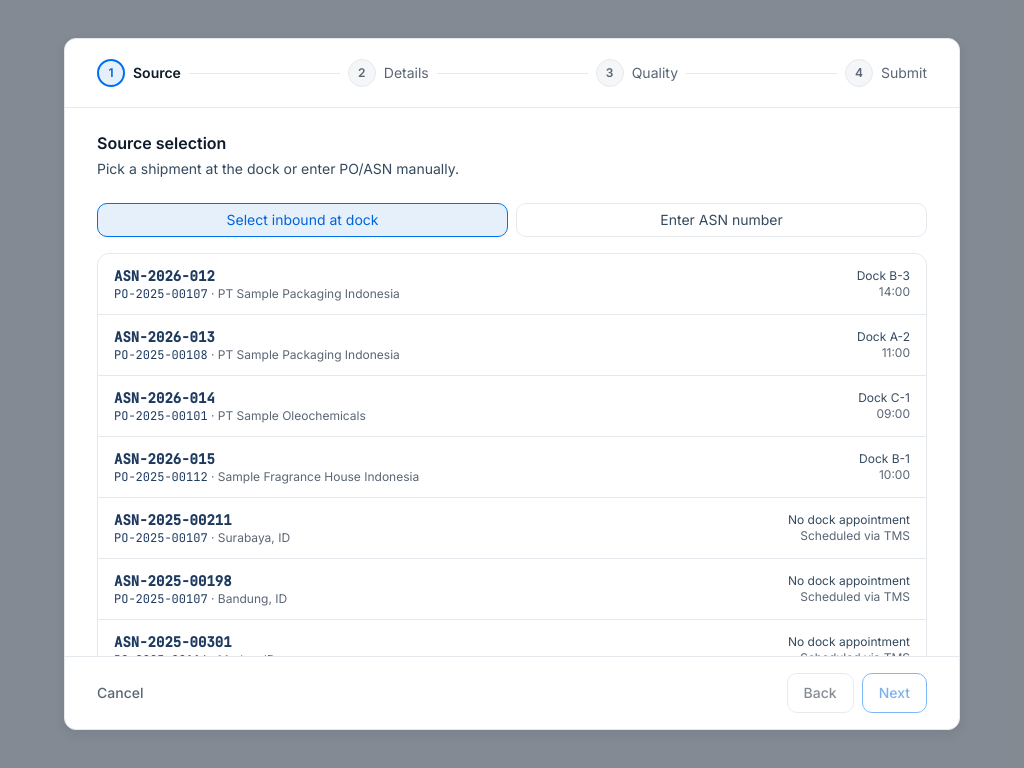
Test: GRInspectionWizard — the BPOM gate reads the master and fails closed › ⚠️ an APPLICABLE line asks for the check — and the wizard STOPS until it is answered
The image size is (1024, 768).
What coordinates should you click on to do the following:
click the text "ASN-2026-015"
I would click on:
 (164, 459)
Its box is [114,450,215,468].
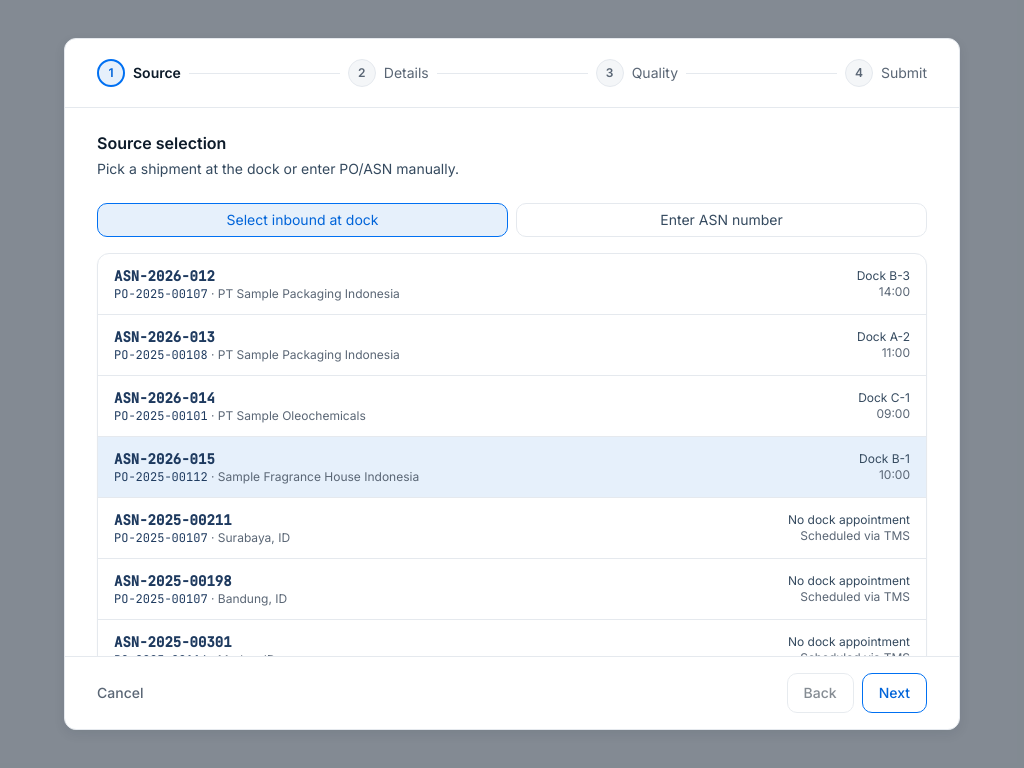
What coordinates should you click on to do the following:
click the button "Next"
I would click on:
 (894, 693)
Its box is [862,673,927,713].
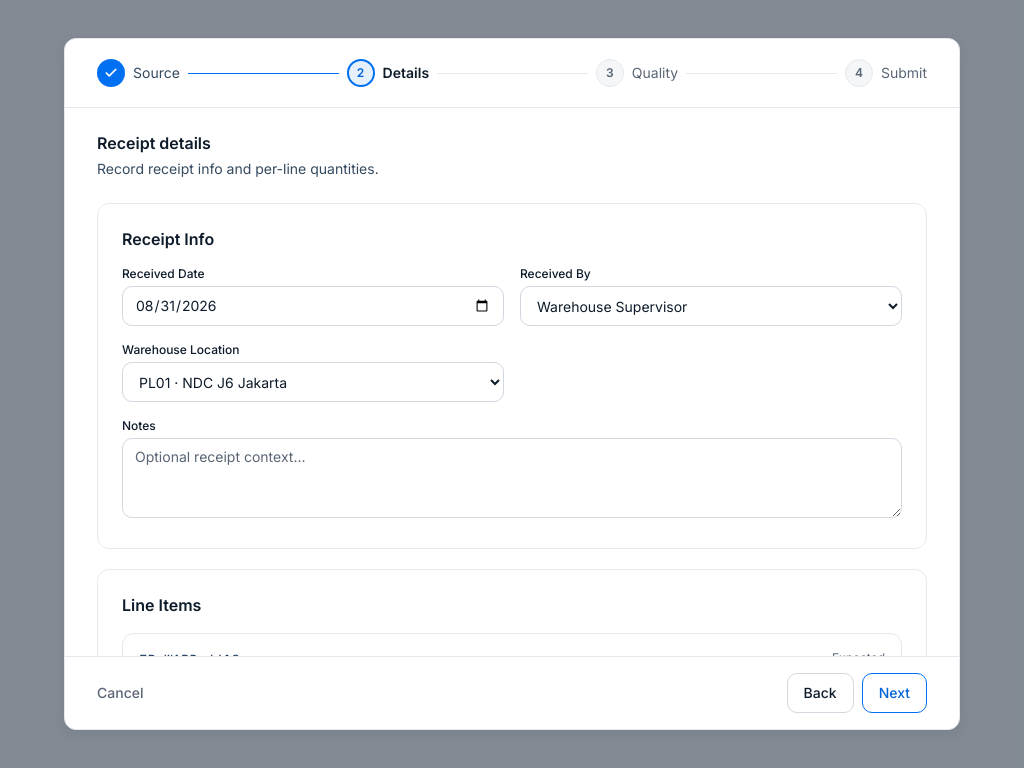
What coordinates should you click on to do the following:
click the button "Next"
I would click on:
 (894, 693)
Its box is [862,673,927,713].
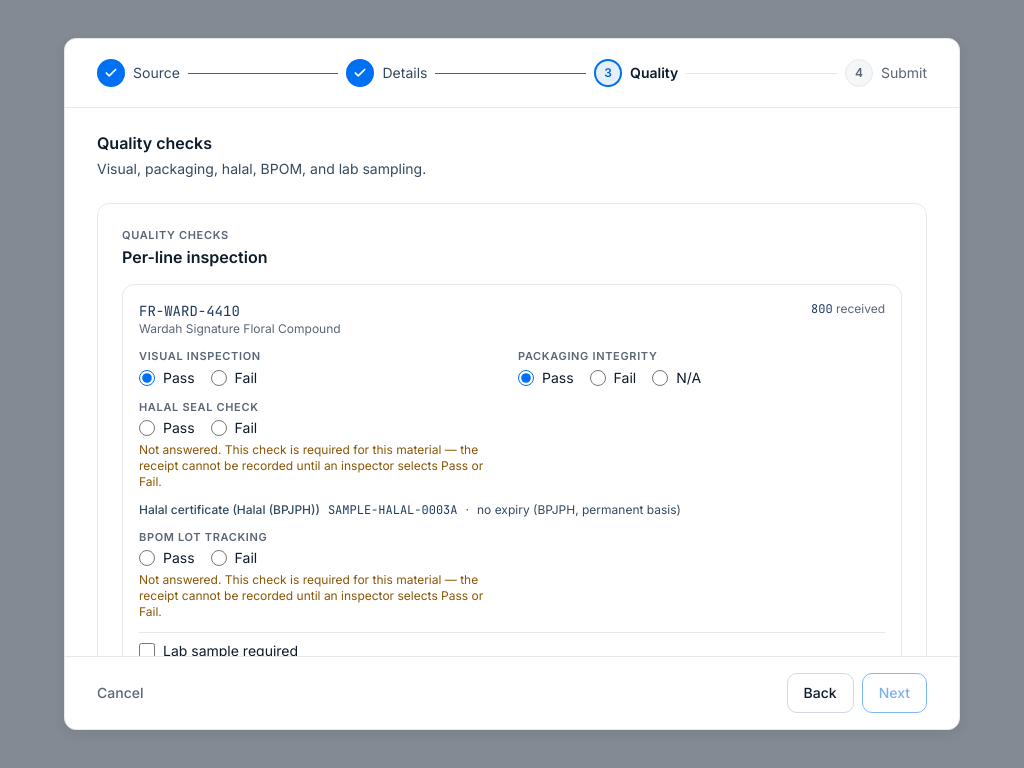
Now the heading "BPOM Lot Tracking" is shown, box [139,530,268,544]
What coordinates should you click on to do the following:
click the radio button labelled "Pass" below "Halal Seal Check"
I would click on:
 (147, 428)
Its box is [139,420,155,436].
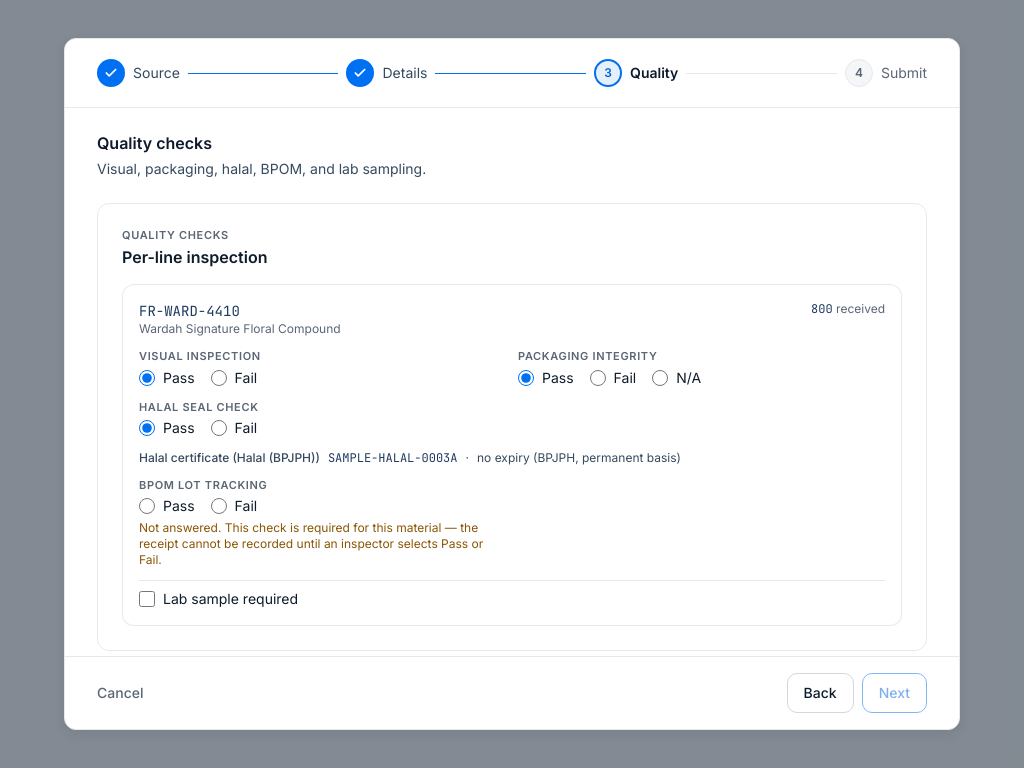
Now the button "Next" is disabled, box [862,673,927,713]
What coordinates should you click on to do the following:
click the radio button labelled "Pass" below "BPOM Lot Tracking"
I would click on:
 (147, 506)
Its box is [139,498,155,514].
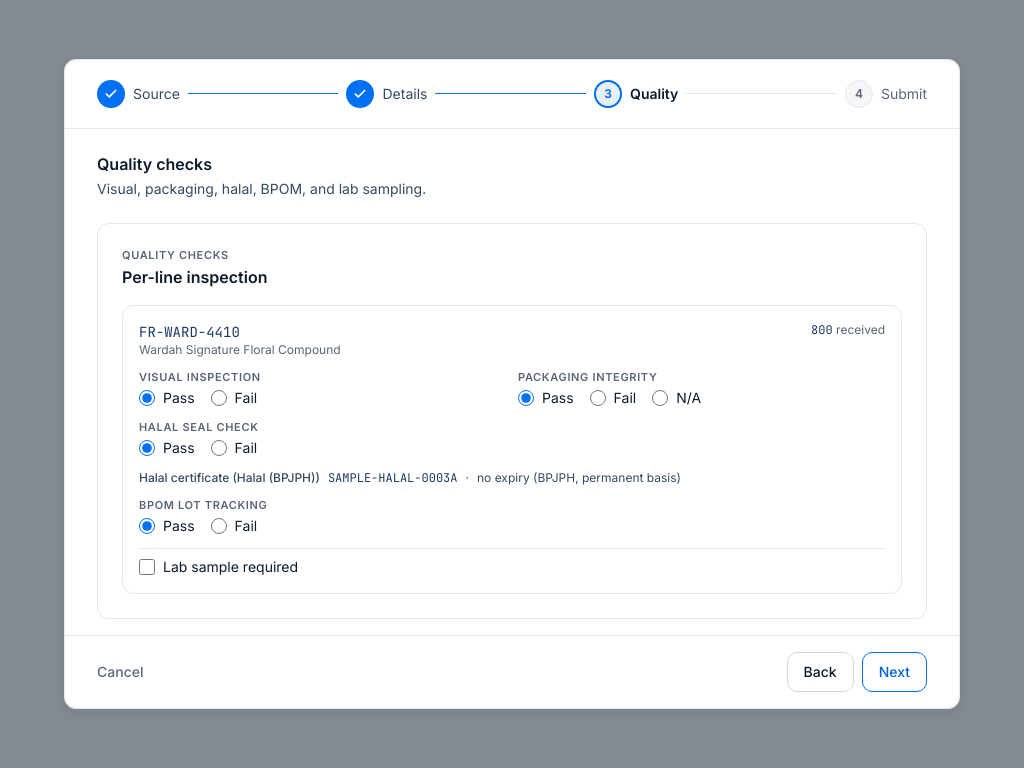
Now the button "Next" is enabled, box [862,652,927,692]
